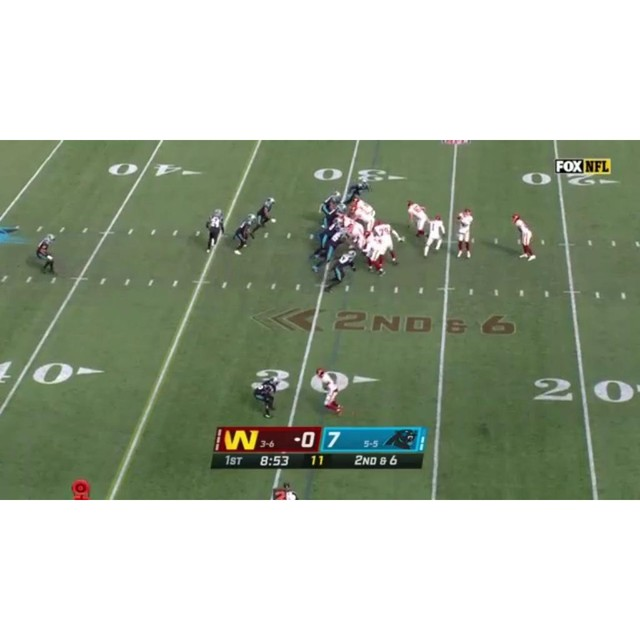american-football-player: (313, 368, 346, 415), (325, 250, 358, 294), (251, 374, 282, 418), (374, 219, 401, 266), (511, 212, 536, 261), (423, 214, 446, 258), (455, 208, 474, 259), (342, 175, 372, 207), (232, 215, 256, 255), (362, 238, 387, 276), (406, 200, 430, 239), (255, 197, 277, 238), (35, 234, 57, 275), (319, 190, 342, 219)
